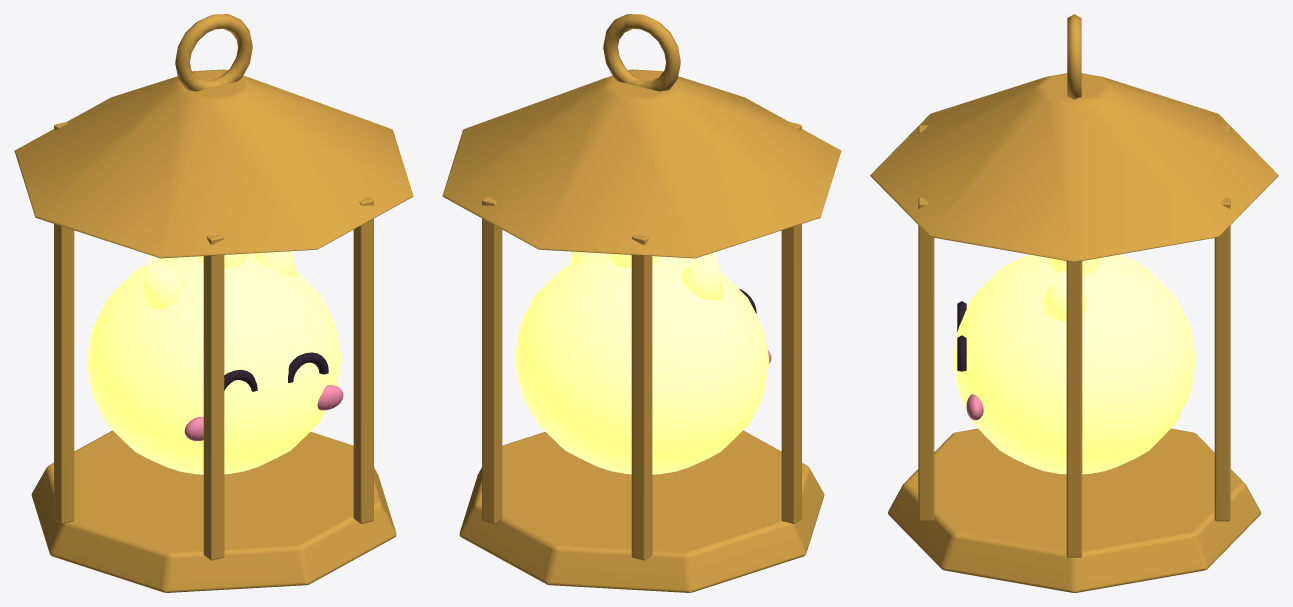
File: pip.glb
3 renders of one model, left to right at view 1: azimuth 30°, elevation 25°; view 2: azimuth 150°, elevation 25°; view 3: azimuth 270°, elevation 25°, orthographic.
Visible parts, largest first — view 1: pip_body; view 2: pip_body; view 3: pip_body.
Boxes of the visible parts, x1,y1,x2,y2 form: pip_body: (14,14,413,592); pip_body: (442,14,841,592); pip_body: (870,14,1278,592).
Bounding box in the file's own units: 0.9079 × 1.22 × 0.9079.
